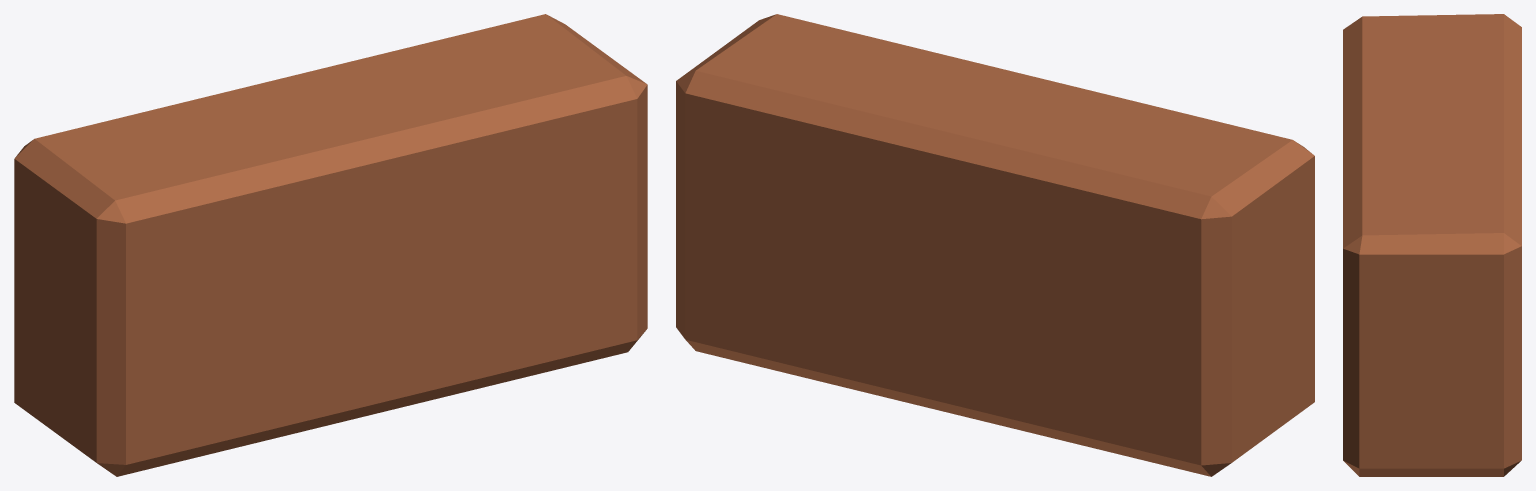
File: Brick.fbx
3 views of the same model, side by side, from view 1: azimuth 30°, elevation 25°; view 2: azimuth 150°, elevation 25°; view 3: azimuth 270°, elevation 25° (orthographic). The views are drawn at different scales.
Parts seen in each view (by area): view 1: Brick; view 2: Brick; view 3: Brick.
Part boxes in pixels (<box>): Brick: <box>14,14,647,476</box>; Brick: <box>676,14,1314,476</box>; Brick: <box>1343,14,1521,476</box>.
Size of the model in its own units: 0.2129 by 0.1027 by 0.0682.
